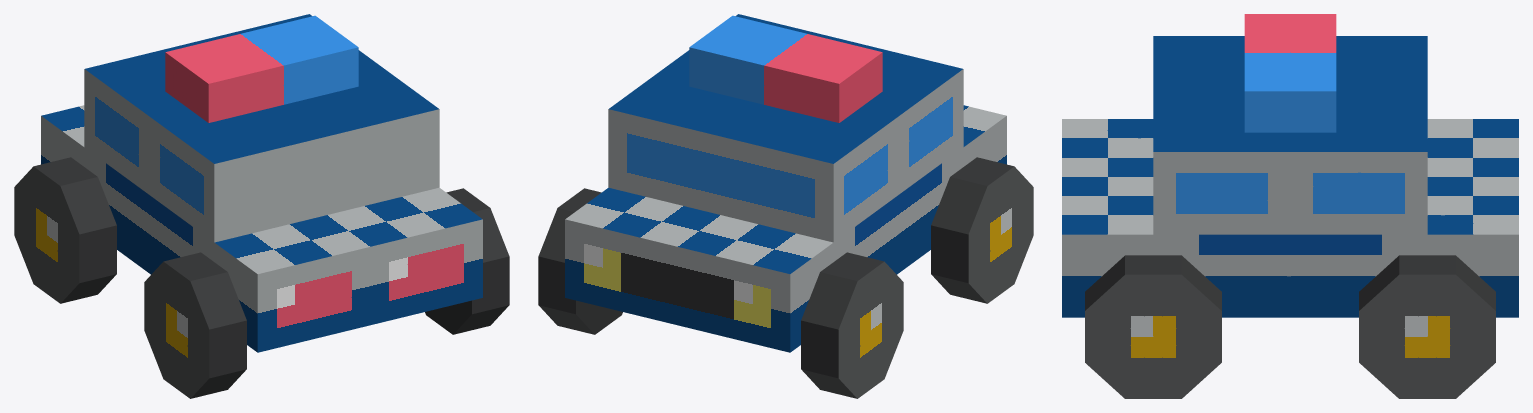
Rendered from police.gltf.
3 views of the same model, side by side, from view 1: azimuth 30°, elevation 25°; view 2: azimuth 150°, elevation 25°; view 3: azimuth 270°, elevation 25° (orthographic). The views are drawn at different scales.
Parts seen in each view (by area): view 1: cube (×3), tire (×3); view 2: cube (×3), tire (×3); view 3: cube (×3), tire (×2).
Boxes of the visible parts, <box> form: cube (×3): <box>41,14,482,352</box>; tire (×3): <box>14,157,509,398</box>; cube (×3): <box>565,14,1006,352</box>; tire (×3): <box>538,157,1033,398</box>; cube (×3): <box>1062,14,1518,317</box>; tire (×2): <box>1085,255,1495,398</box>.
Size of the model in its own units: 1 by 0.8125 by 1.25.
1 material, 1 textured.
